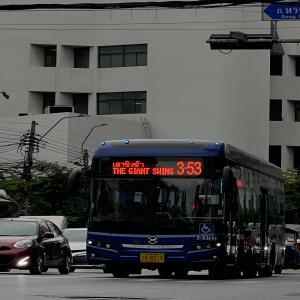Bus Line Number: (175, 161, 203, 177)
Bus Side Number: (195, 236, 217, 240)
Destination Sign: (110, 160, 174, 175)
TSB-Bus: (85, 139, 287, 278)
